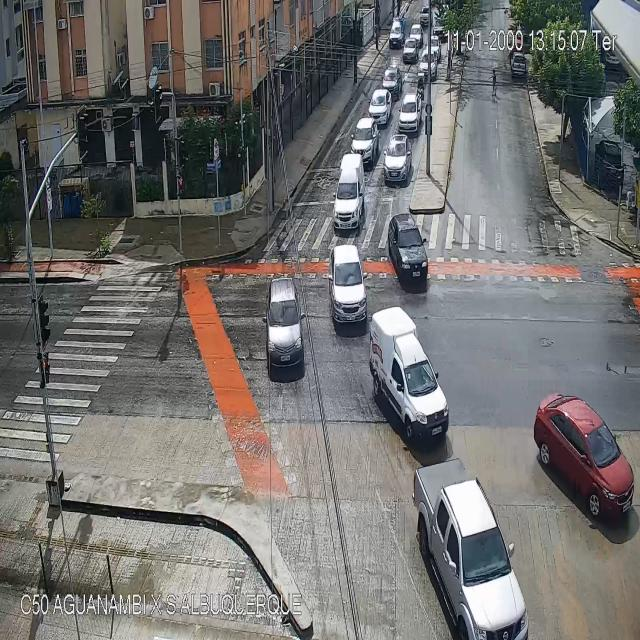Car: (412, 460, 529, 640), (535, 392, 636, 521), (370, 302, 450, 441), (262, 275, 308, 380), (327, 243, 368, 328), (387, 214, 428, 290), (332, 155, 366, 226), (384, 136, 411, 182), (351, 118, 378, 163), (399, 93, 421, 133), (368, 87, 391, 125), (380, 66, 402, 95), (419, 49, 438, 78), (389, 15, 404, 47), (402, 38, 419, 63), (510, 53, 526, 76), (425, 35, 440, 59), (434, 19, 447, 41), (410, 24, 422, 46), (420, 3, 431, 24)
Motorcycle: (417, 76, 424, 97)
